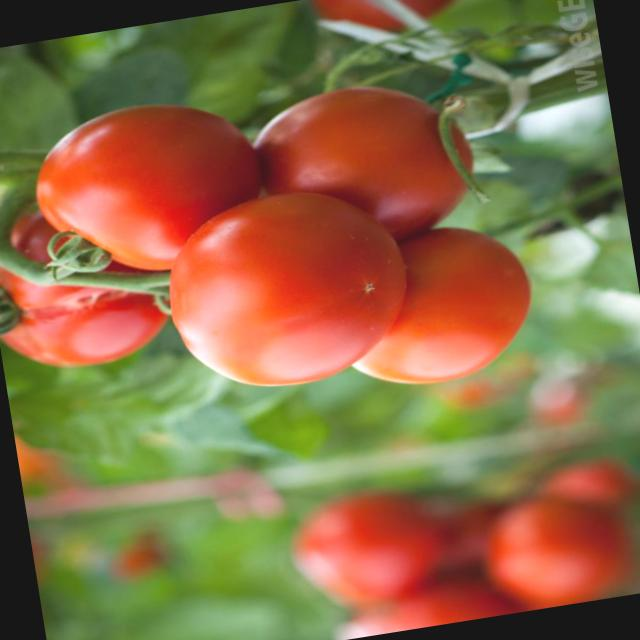tomato: (154, 169, 418, 402), (32, 93, 255, 274)
